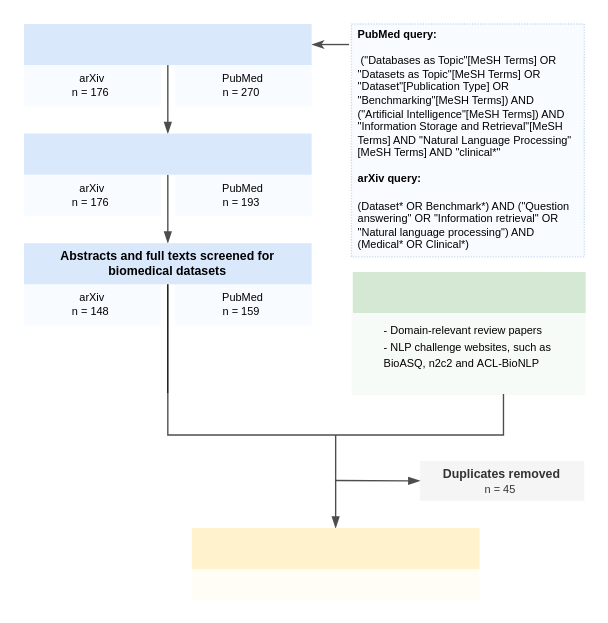
Some shapes in this 608 by 623 pixel diagram are drawn without their labels. Here are the shapes that lost their labels. From the top down, the centre of each, then its label:
point (167, 43): Records identified through database search
point (167, 153): Titles and abstracts screened for eligibility
point (468, 291): Additional sources
point (335, 548): Total number of unique datasets identified
point (335, 584): n = 471
